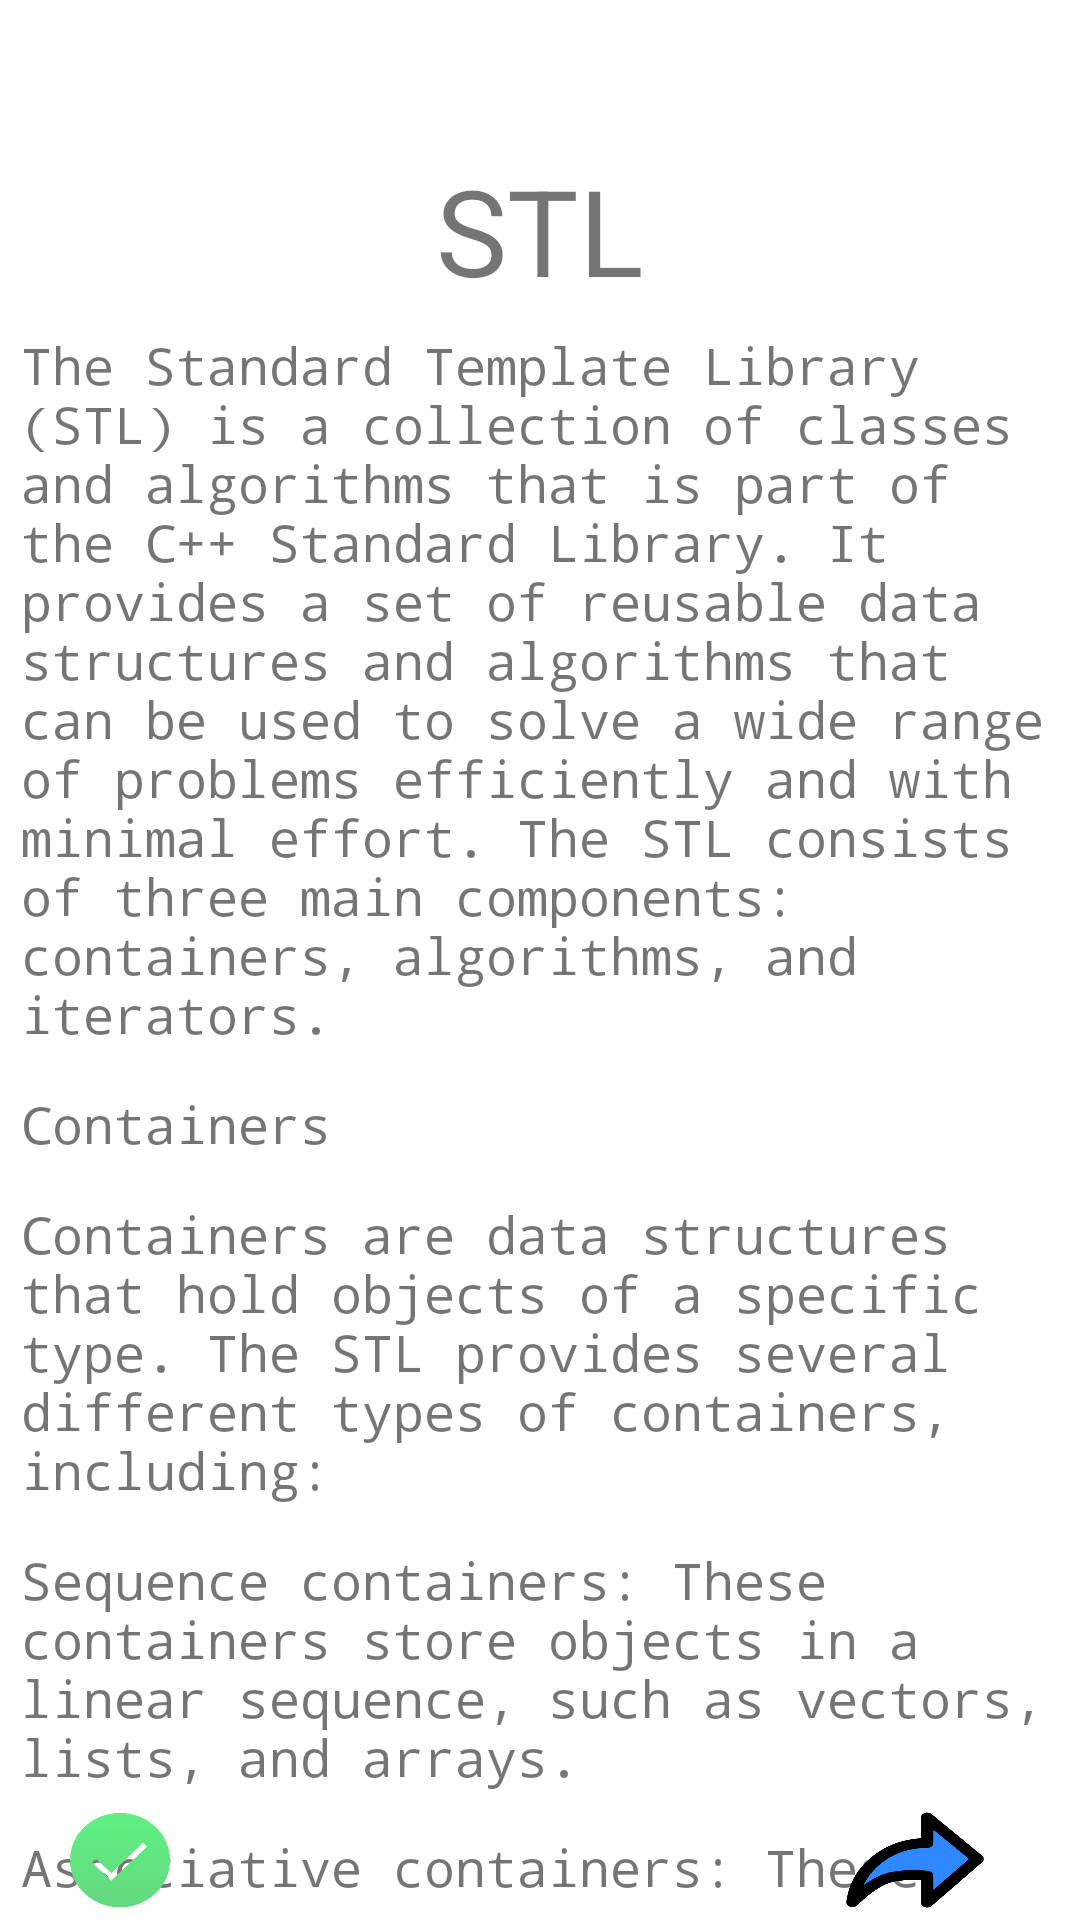

Icons on this 1080*1920 Android screen, each with its box as region(x1, y1, x2, y2):
next: region(840, 1812, 984, 1908)
